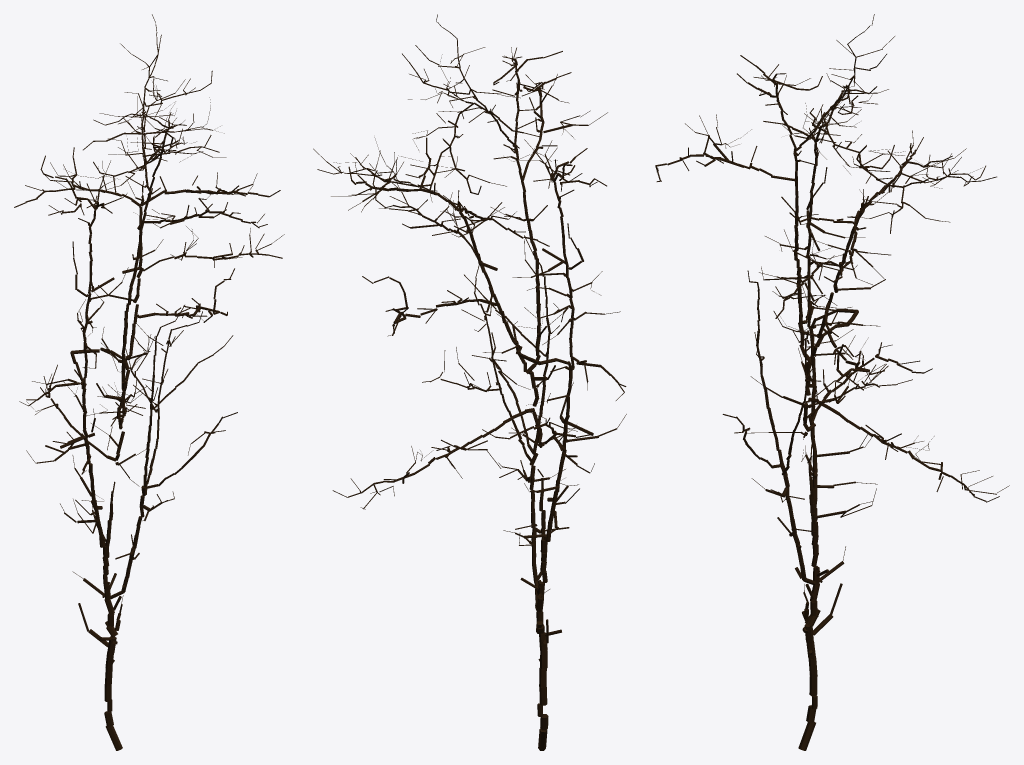
Rendered from tree_559_no_leaf.obj.
3 renders of one model, left to right at view 1: azimuth 30°, elevation 25°; view 2: azimuth 150°, elevation 25°; view 3: azimuth 270°, elevation 25°, orthographic. The views are drawn at different scales.
Parts seen in each view (by area): view 1: TrunkAndBranches; view 2: TrunkAndBranches; view 3: TrunkAndBranches.
Part boxes in pixels (x1=…): TrunkAndBranches: x1=14, y1=14, x2=284, y2=750; TrunkAndBranches: x1=313, y1=14, x2=626, y2=750; TrunkAndBranches: x1=655, y1=14, x2=1009, y2=750.
Size of the model in its own units: 3.84 by 9.95 by 4.14.
